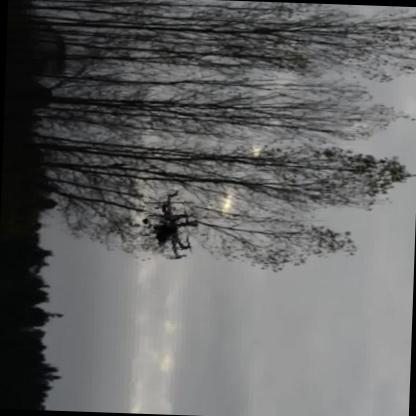drone: (144, 188, 202, 262)
